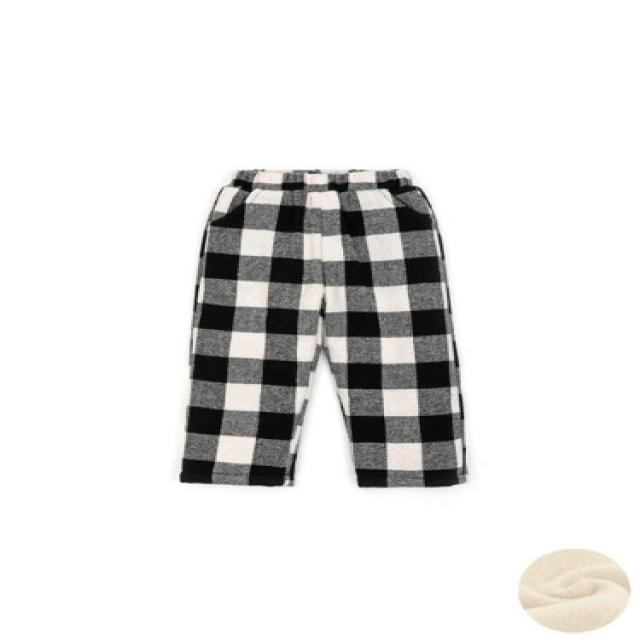pants: (170, 165, 476, 492)
